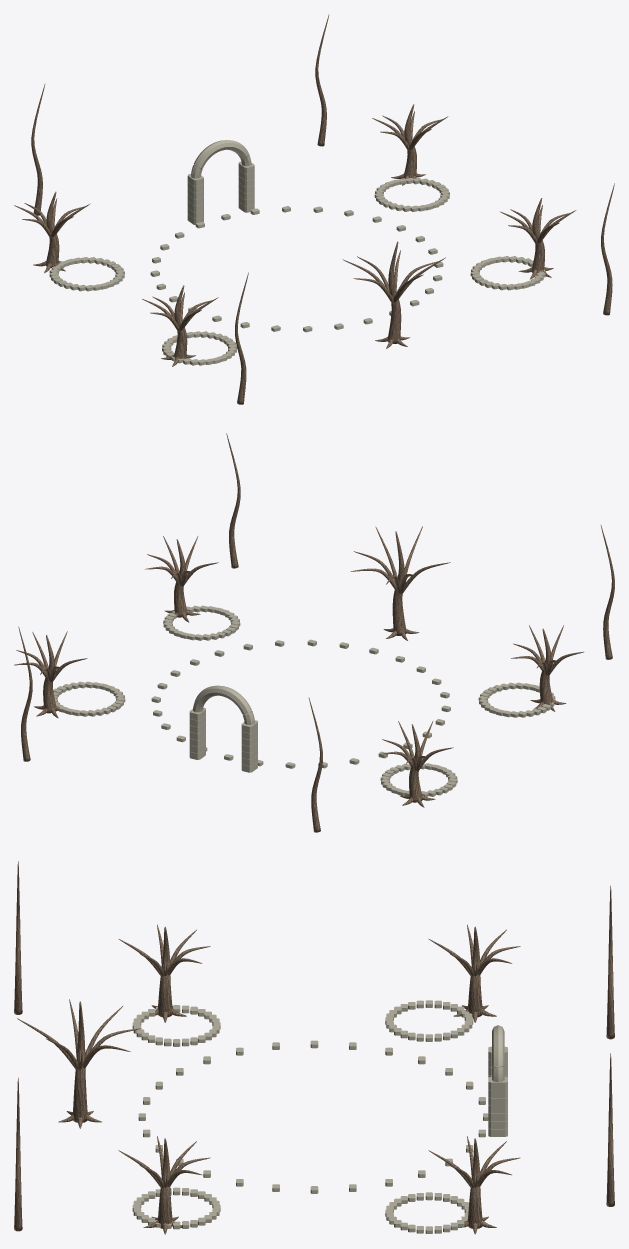
The model's file is R5_Structure.fbx.
3 renders of one model, top to bottom at view 1: azimuth 30°, elevation 25°; view 2: azimuth 150°, elevation 25°; view 3: azimuth 270°, elevation 25°, orthographic. The views are drawn at different scales.
Parts seen in each view (by area): view 1: R5_Structure; view 2: R5_Structure; view 3: R5_Structure.
Part boxes in pixels (x1=…): R5_Structure: x1=14, y1=14, x2=614, y2=404; R5_Structure: x1=14, y1=433, x2=614, y2=832; R5_Structure: x1=14, y1=861, x2=614, y2=1234.
Bounding box in the file's own units: 51.71 × 15.17 × 52.35.
2 materials, 1 textured.
